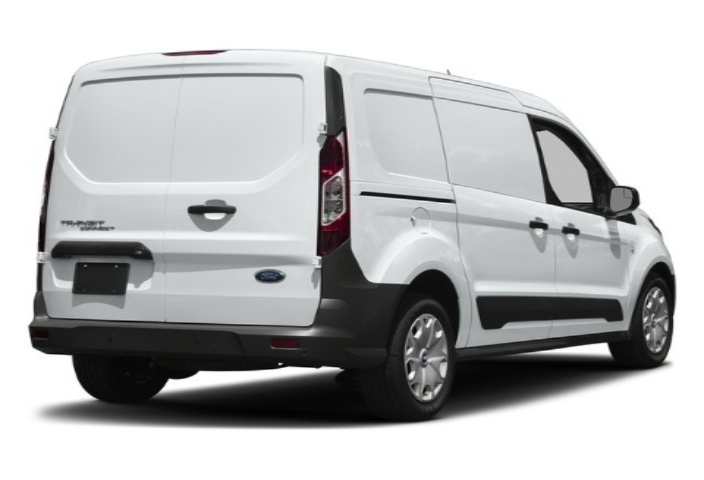van: (41, 45, 680, 426)
